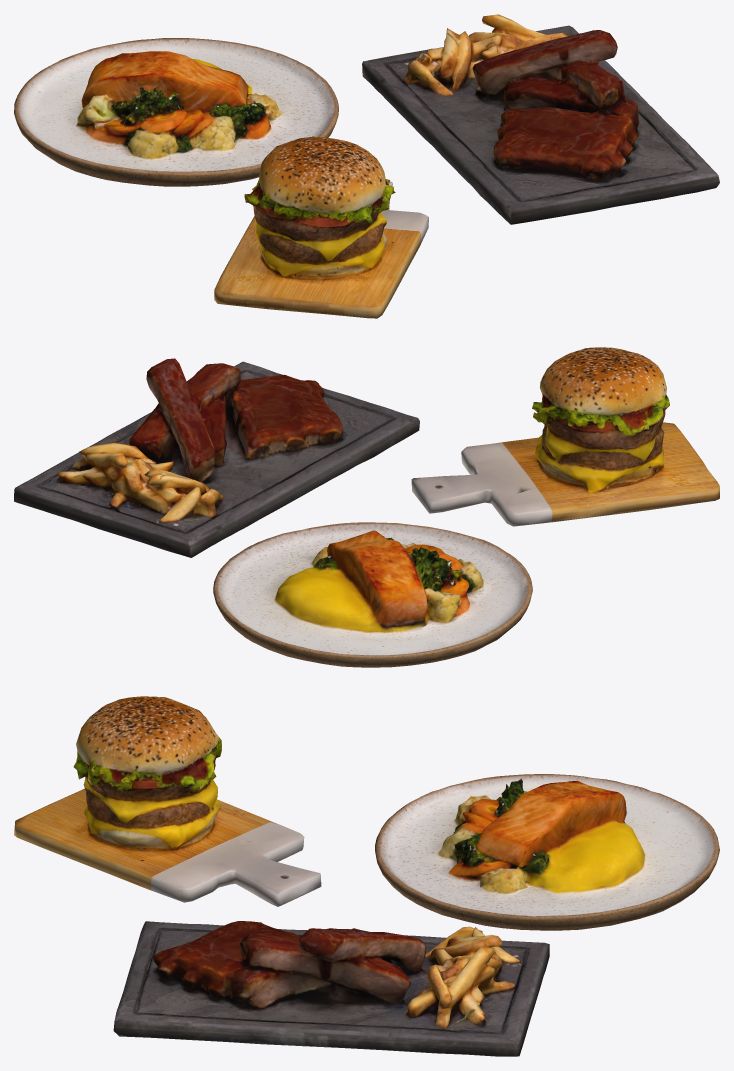
File: seara.gltf
3 renders of one model, top to bottom at view 1: azimuth 30°, elevation 25°; view 2: azimuth 150°, elevation 25°; view 3: azimuth 270°, elevation 25°, orthographic. The views are drawn at different scales.
Parts seen in each view (by area): view 1: Barbecue_Remeshed, Salmon_Remeshed, Hamburguer_Remeshed; view 2: Barbecue_Remeshed, Salmon_Remeshed, Hamburguer_Remeshed; view 3: Barbecue_Remeshed, Salmon_Remeshed, Hamburguer_Remeshed.
Boxes of the visible parts, left/top/right/bottom form: Barbecue_Remeshed: left=362, top=14, right=719, bottom=224; Salmon_Remeshed: left=14, top=38, right=338, bottom=186; Hamburguer_Remeshed: left=214, top=136, right=428, bottom=318; Barbecue_Remeshed: left=14, top=358, right=419, bottom=557; Salmon_Remeshed: left=213, top=522, right=532, bottom=667; Hamburguer_Remeshed: left=411, top=347, right=719, bottom=526; Barbecue_Remeshed: left=113, top=921, right=549, bottom=1056; Salmon_Remeshed: left=375, top=774, right=719, bottom=930; Hamburguer_Remeshed: left=14, top=696, right=321, bottom=906.
Size of the model in its own units: 12.37 by 2.69 by 13.32.
3 materials, 3 textured.
